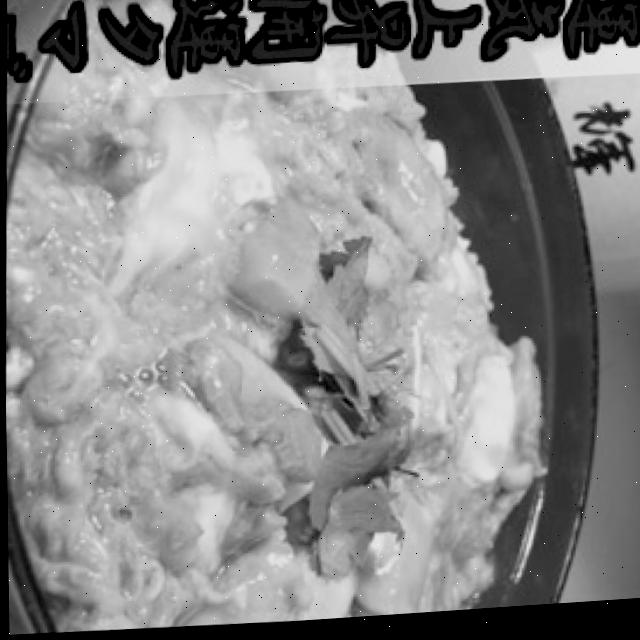米饭主食: (1, 72, 611, 640)
